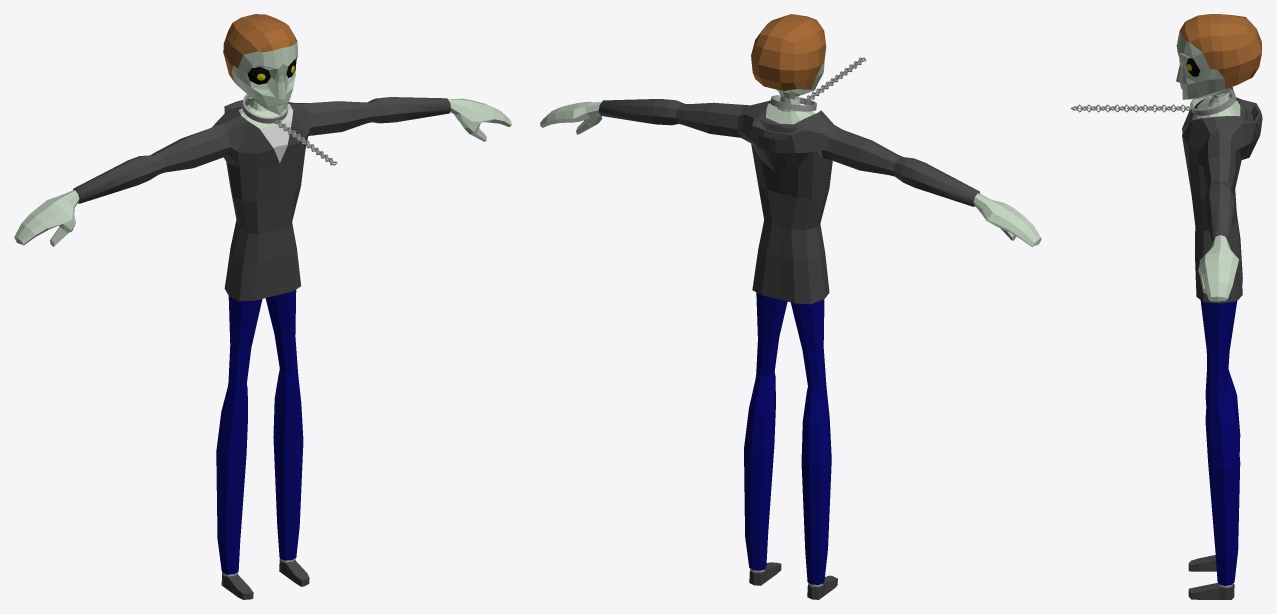
Rendered from Student.fbx.
3 views of the same model, side by side, from view 1: azimuth 30°, elevation 25°; view 2: azimuth 150°, elevation 25°; view 3: azimuth 270°, elevation 25° (orthographic).
Visible parts, largest first — view 1: Body; view 2: Body; view 3: Body.
Boxes of the visible parts, x1,y1,x2,y2 form: Body: (14,14,511,599); Body: (540,14,1041,599); Body: (1070,14,1262,599).
Bounding box in the file's own units: 445 × 484 × 149.
